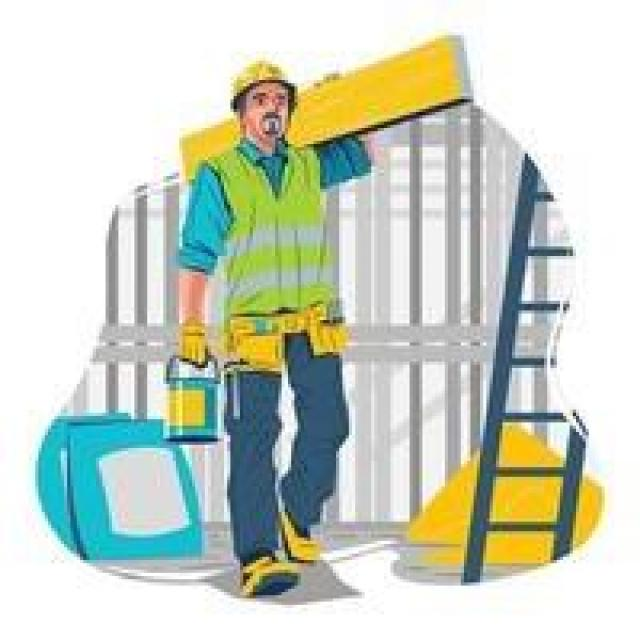Reflective-Jacket: (189, 138, 349, 358)
Safety-Helmet: (221, 48, 301, 112)
